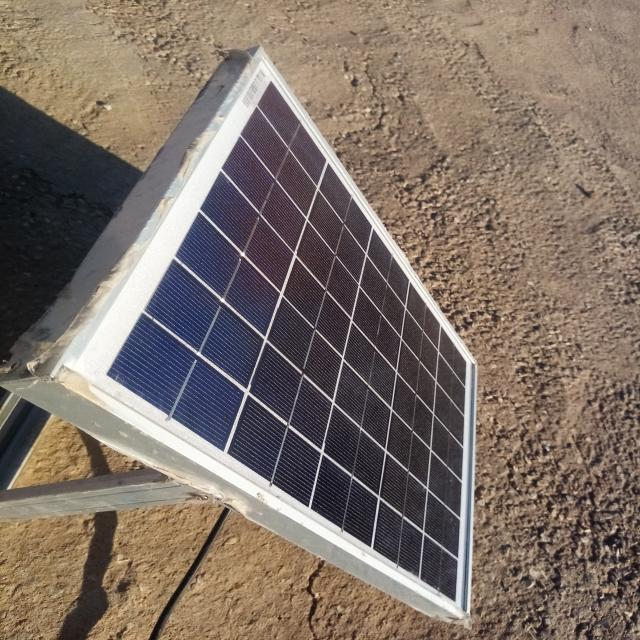no faulty: (49, 51, 476, 620)
